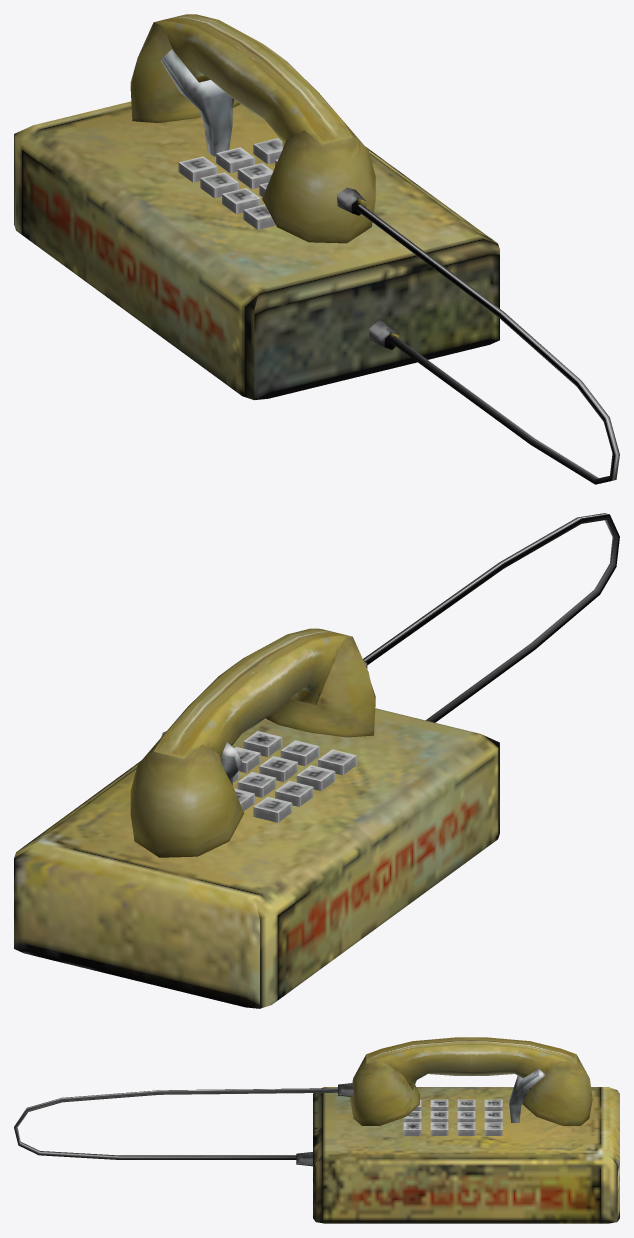
File: phone_emergency.fbx
3 views of the same model, one above another, from view 1: azimuth 30°, elevation 25°; view 2: azimuth 150°, elevation 25°; view 3: azimuth 270°, elevation 25° (orthographic). The views are drawn at different scales.
Visible parts, largest first — view 1: mesh_0; view 2: mesh_0; view 3: mesh_0.
Boxes of the visible parts, x1=… form: mesh_0: x1=14, y1=14, x2=619, y2=484; mesh_0: x1=14, y1=513, x2=619, y2=1008; mesh_0: x1=14, y1=1037, x2=619, y2=1223.
Size of the model in its own units: 20.54 by 17.51 by 67.15.
1 material, 1 textured.
